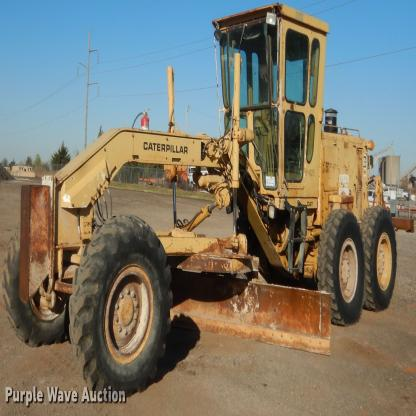bull_dozer/loader/grader: (9, 10, 405, 406)
